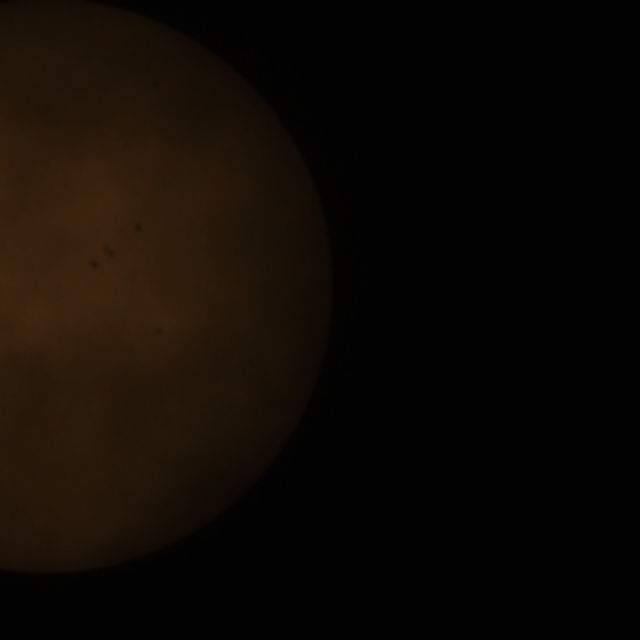sunspot: (88, 245, 116, 273), (146, 314, 172, 343), (127, 210, 147, 242)
